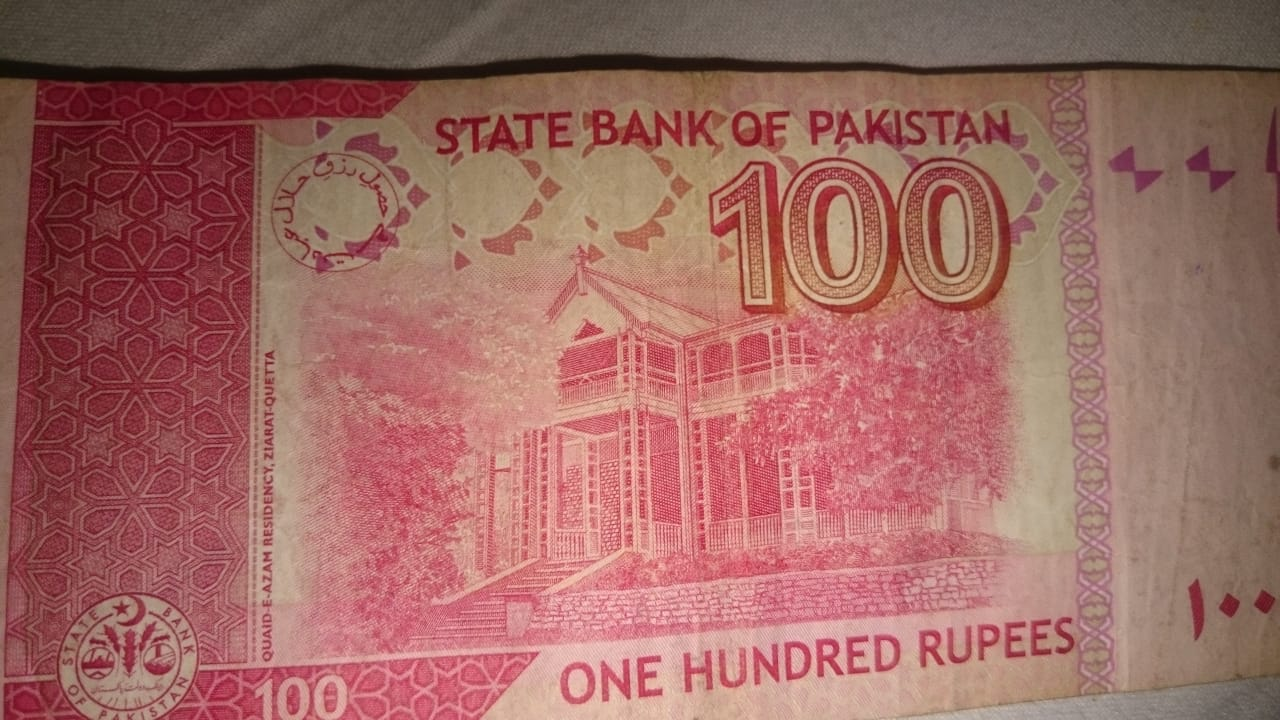100 rupee: (17, 58, 1272, 720)
